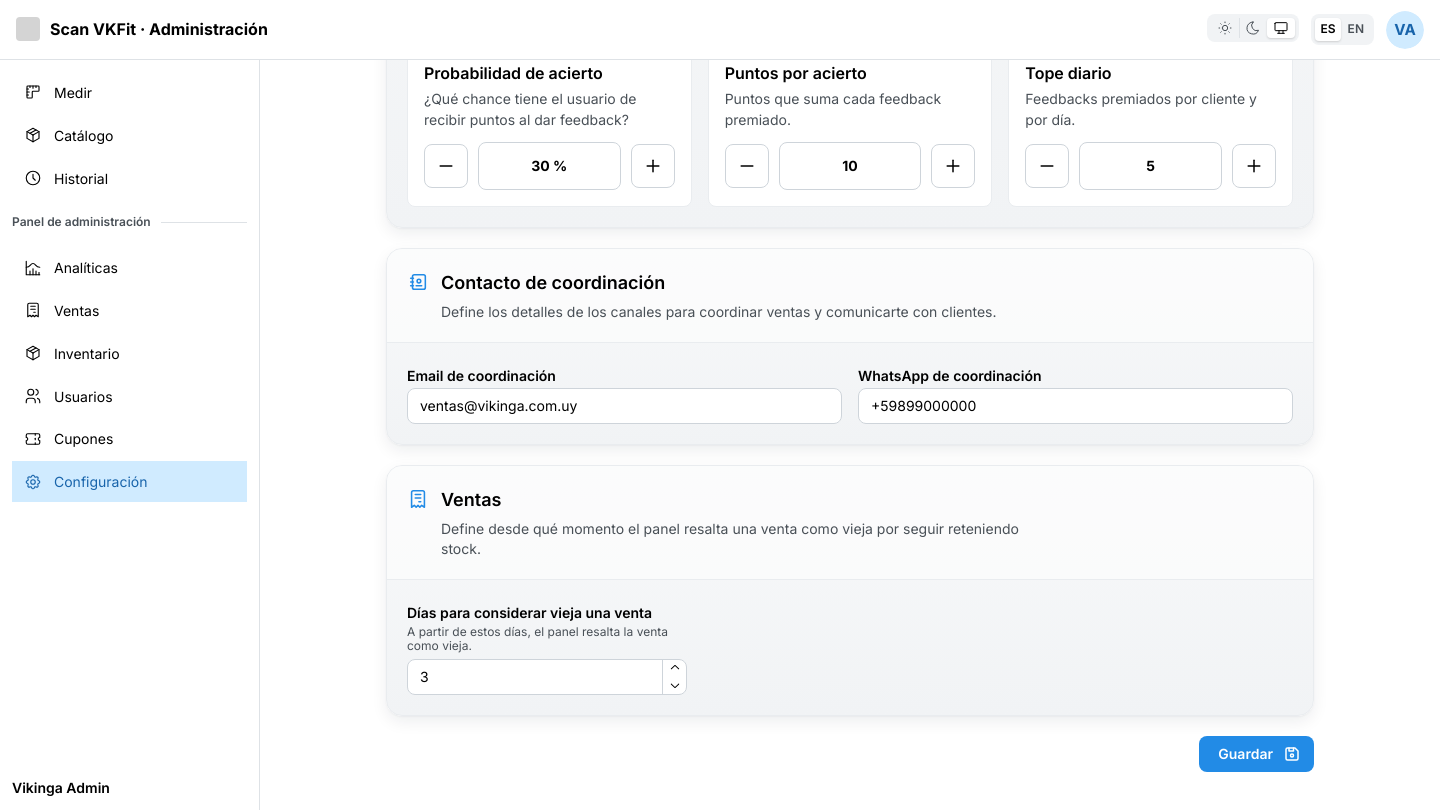
Scenario: configuración › pide un email con formato válido
(page scrolled)
Replace the text in the field labelled "Email de coordinación" with "ventas@vikinga" at (624, 406), box [407,388,842,424]
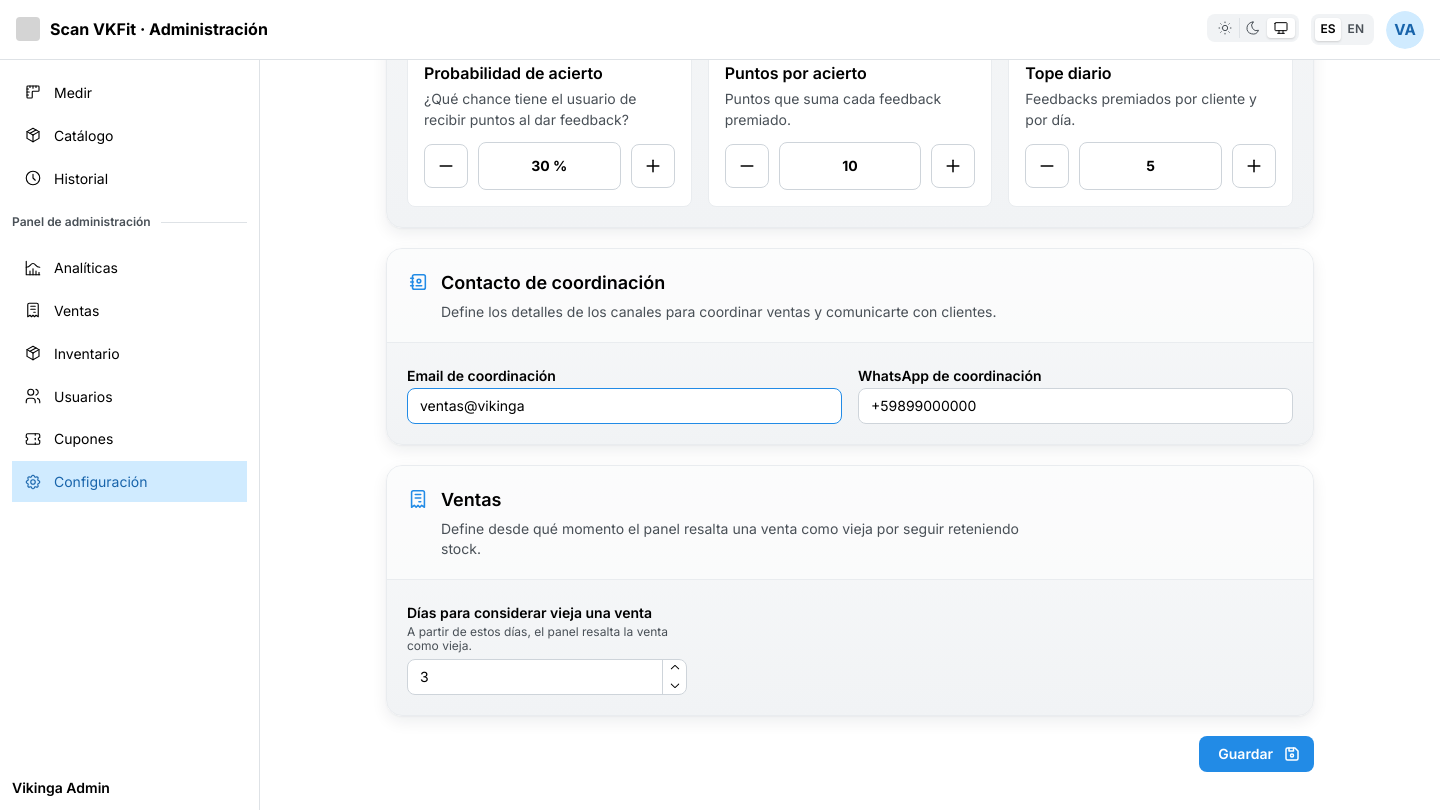
Click the button "Guardar" at (1257, 754), box [1199,736,1314,772]
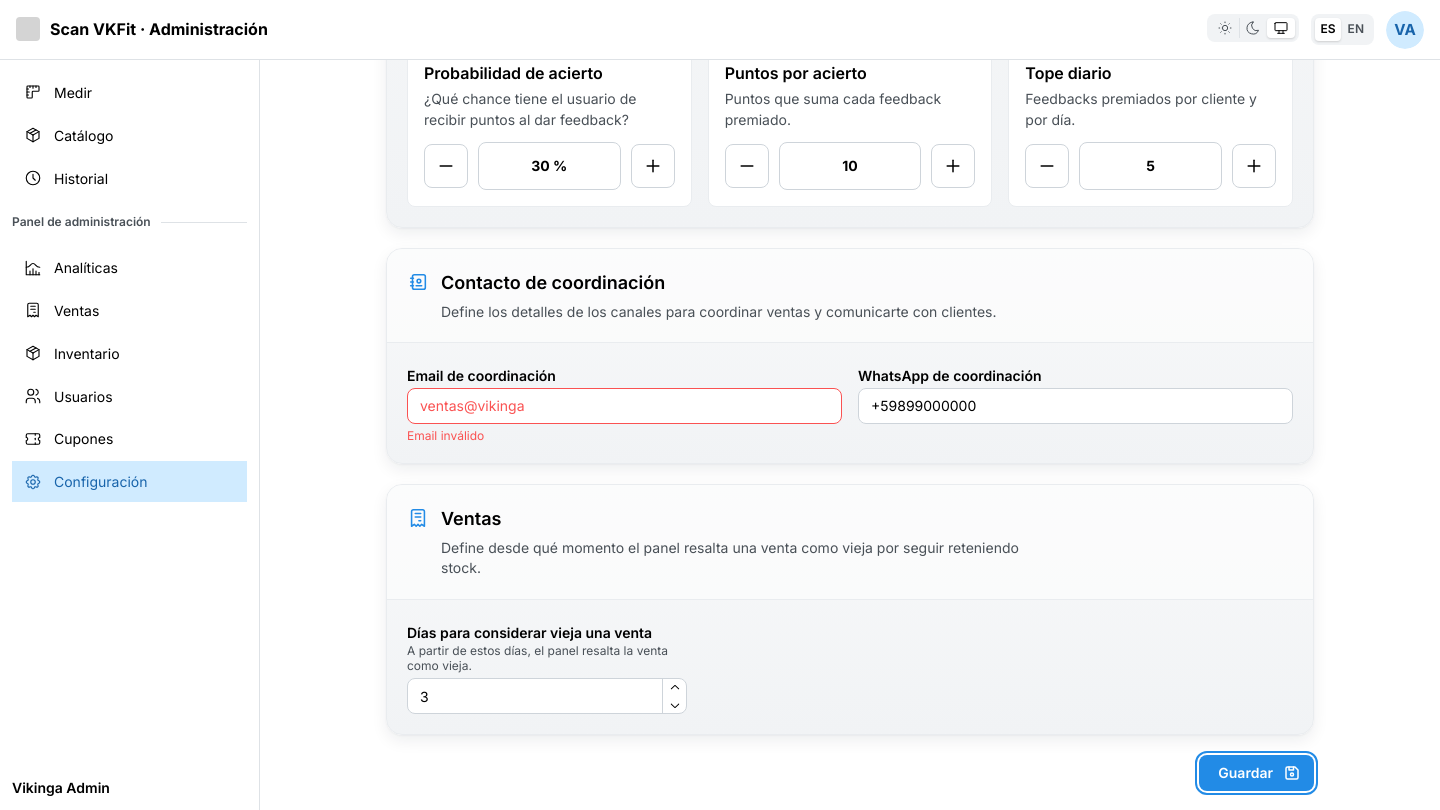
Expected: the text "Email inválido" is shown, [407,428,484,443]
